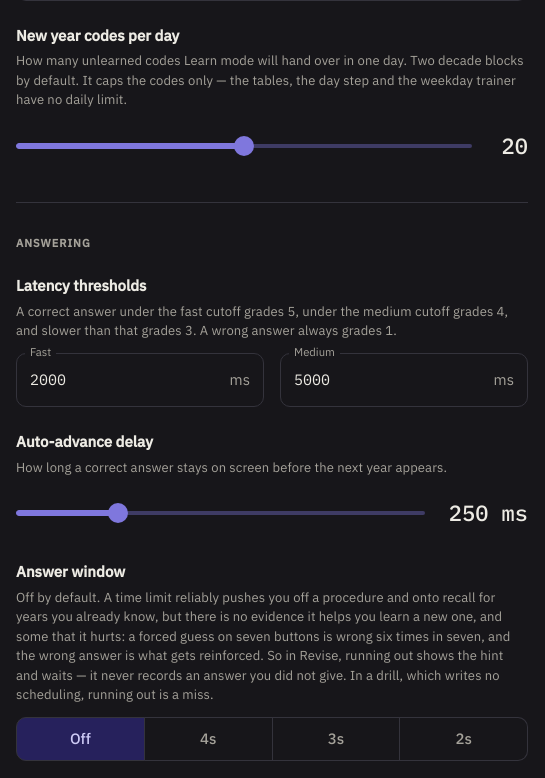
Test: Latency thresholds › refuses a cleared field rather than storing zero
(page scrolled)
Clear the field labelled "Fast" at (119,380), box [16,352,222,407]
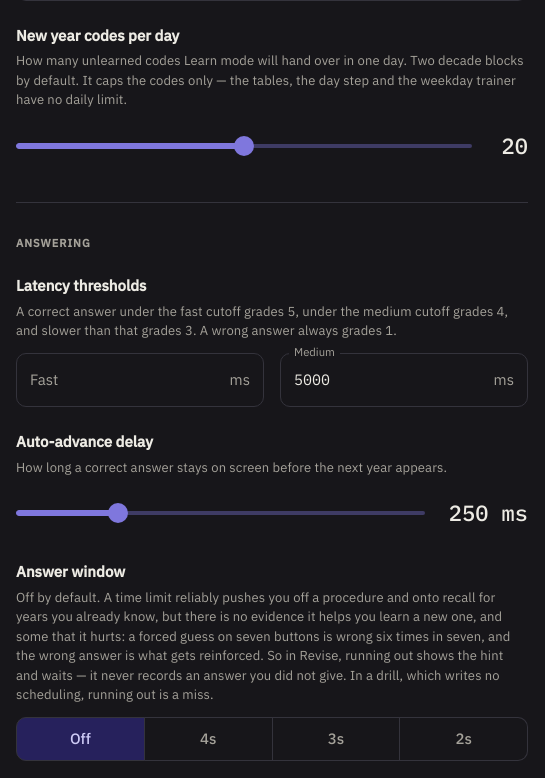
Leave the field labelled "Fast", box [16,352,222,407]
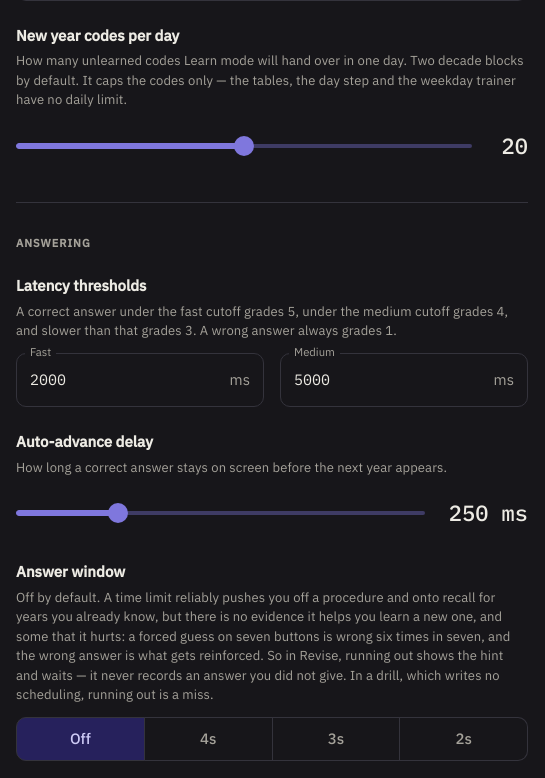
expect the field labelled "Fast" holds "2000": met, box [16,352,222,407]
